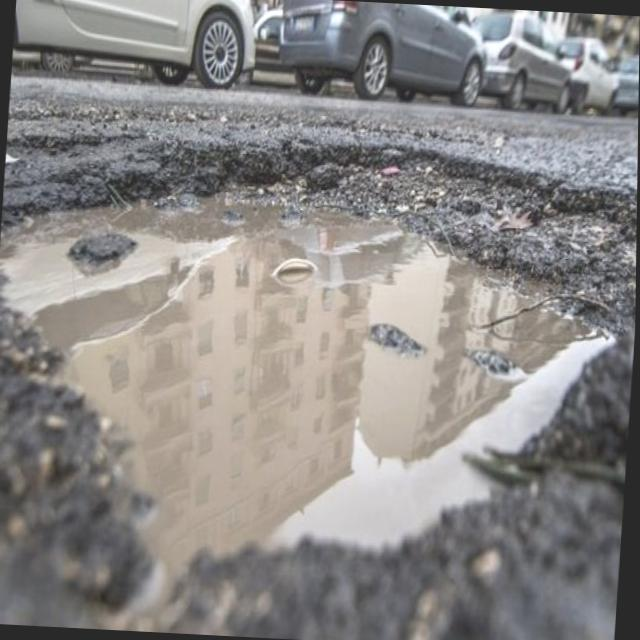Pothole: (0, 136, 637, 586)
